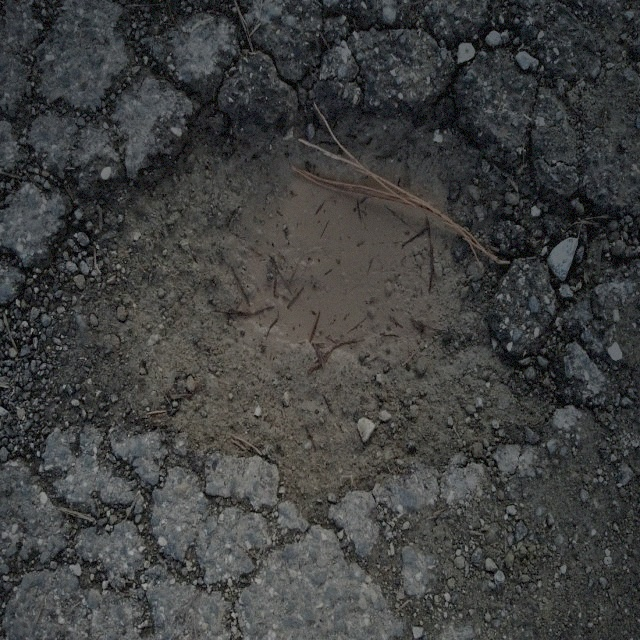pothole: (18, 86, 606, 524)
